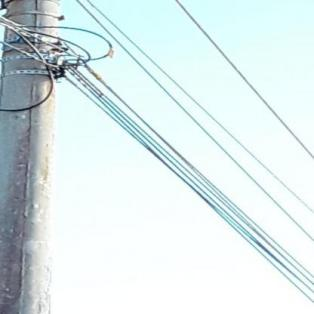Poste: (0, 0, 87, 314)
